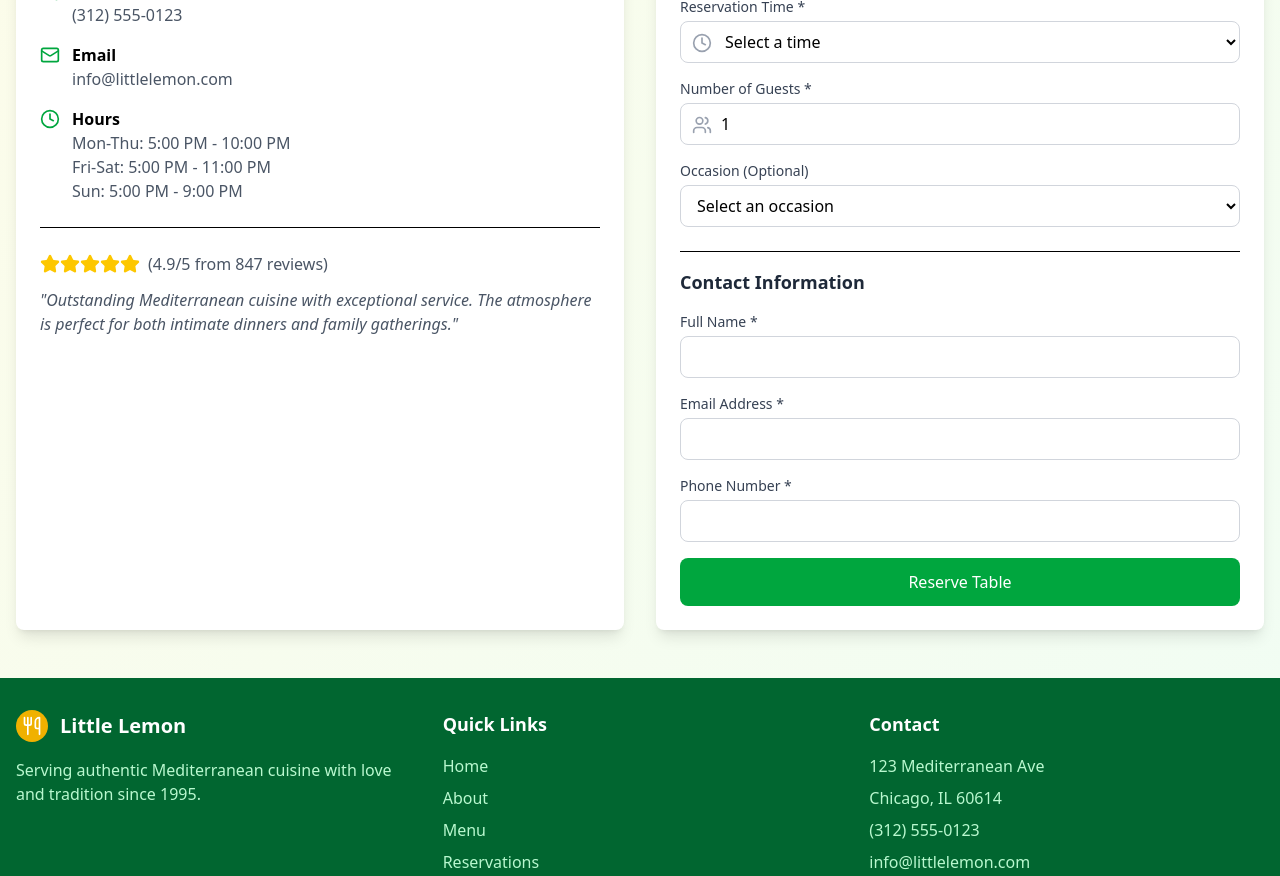
Test: Little Lemon Booking App › validates email format
(page scrolled)
Type "invalid-email" into the field labelled "Email Address *".
click(960, 439); type("invalid-email")  # box [680, 418, 1240, 460]
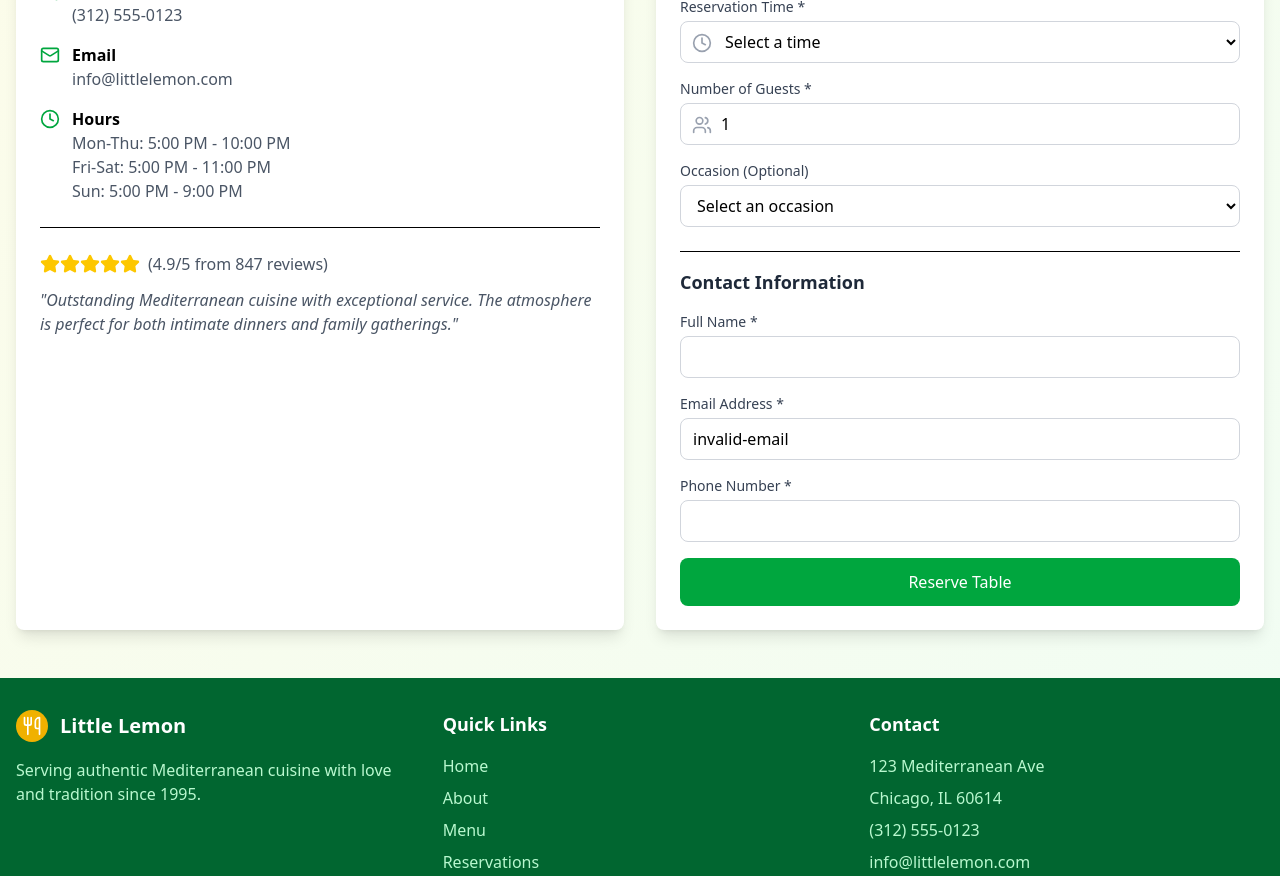
Click the button "Reserve Table".
click(960, 582)  # box [680, 558, 1240, 606]
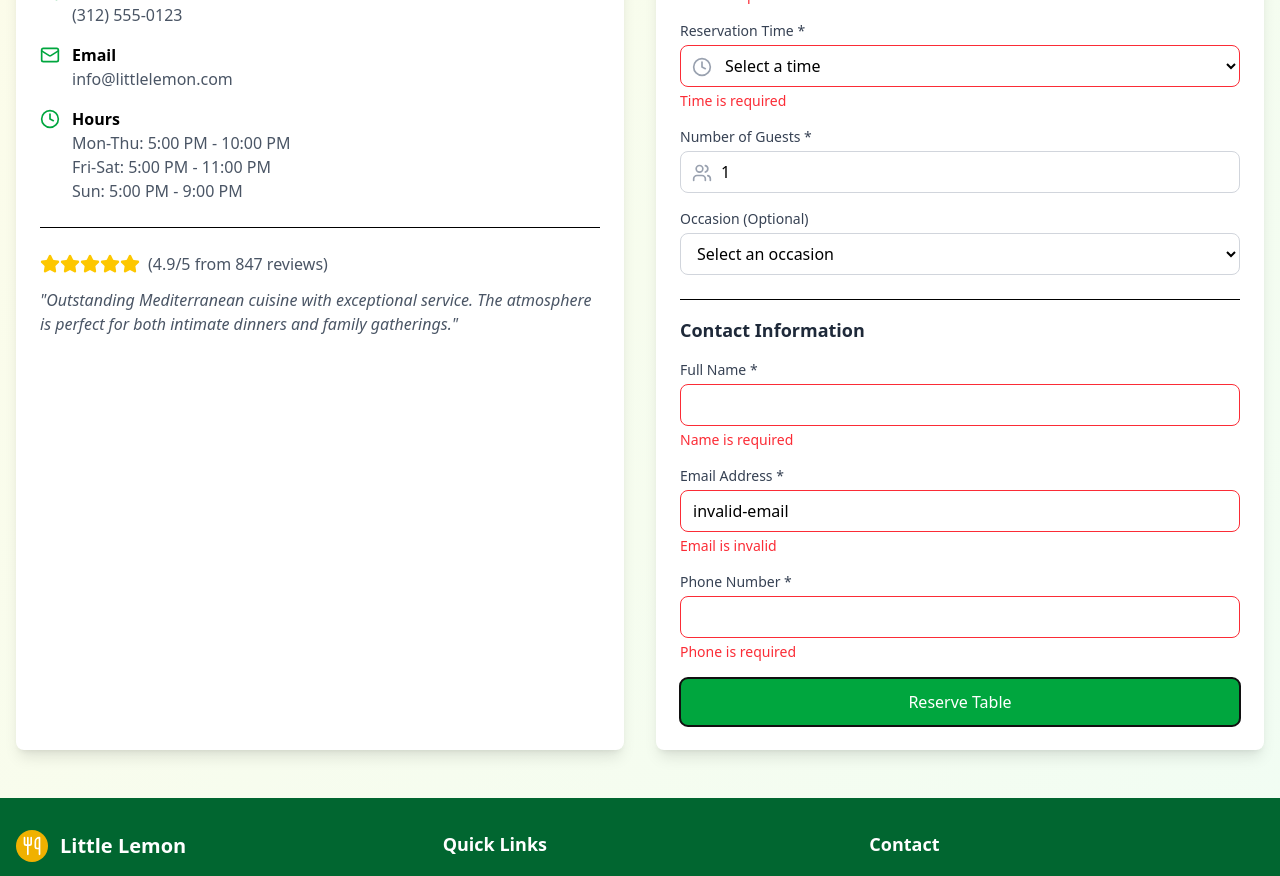
Result: the text "Email is invalid" is shown at [680, 536, 777, 555]
